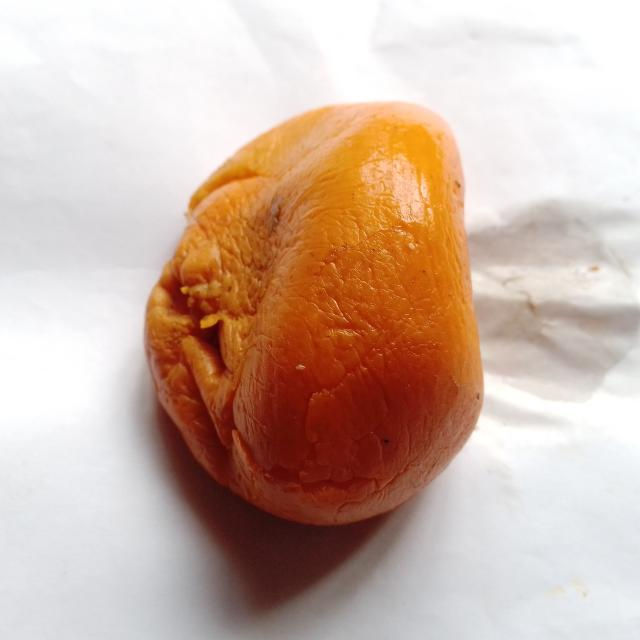orange: (146, 104, 482, 524)
